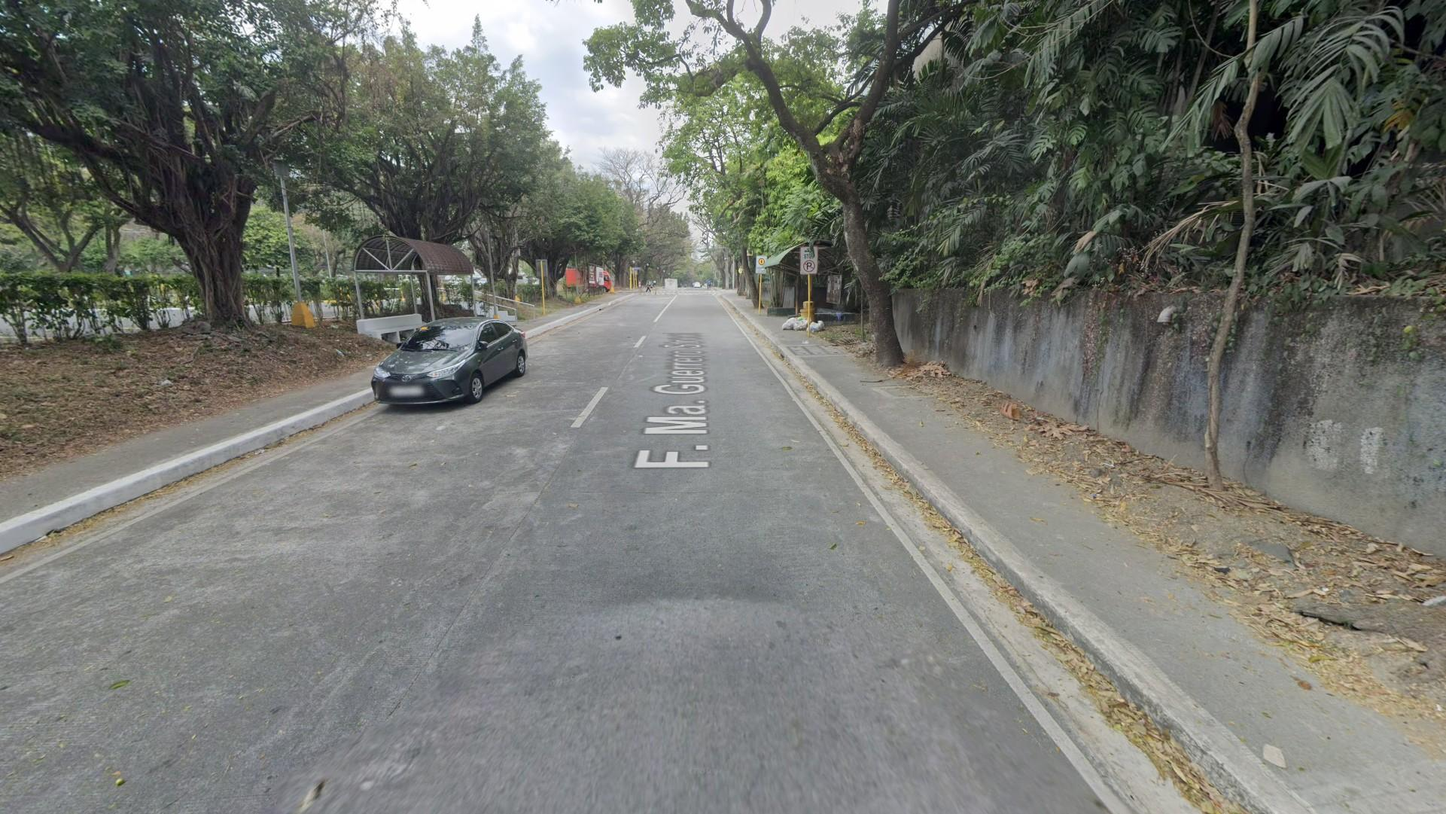pedestrian: (645, 281, 652, 293), (707, 278, 712, 290)
